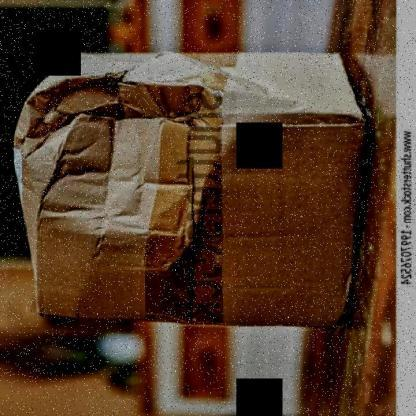-: (8, 45, 368, 330)
